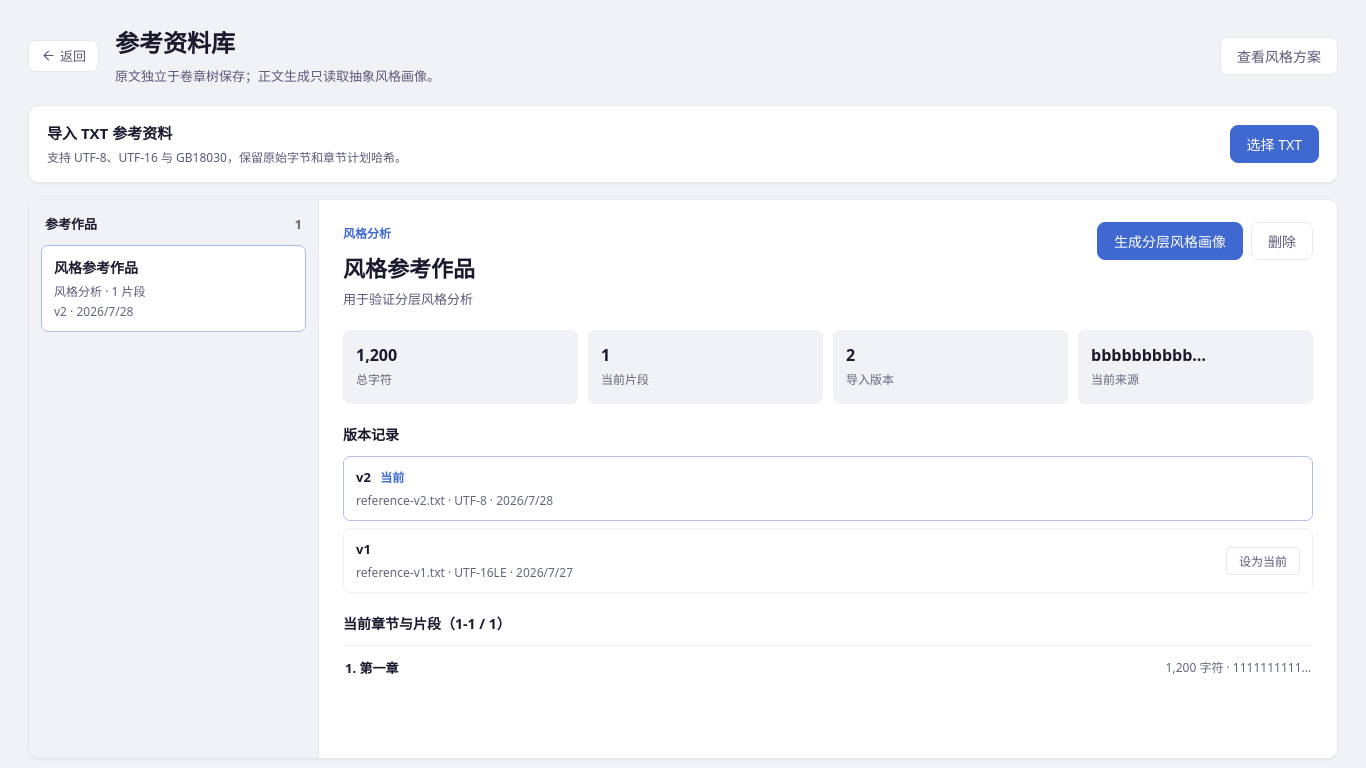
Scenario: ReferenceLibraryPage › uses revision-checked version activation and saves abstract style analysis
This screenshot has width=1366, height=768.
Check: the text "reference-v1.txt" is shown, box [356,564,445,581]
Click the button "设为当前" at (1263, 561), box [1226,547,1300,575]
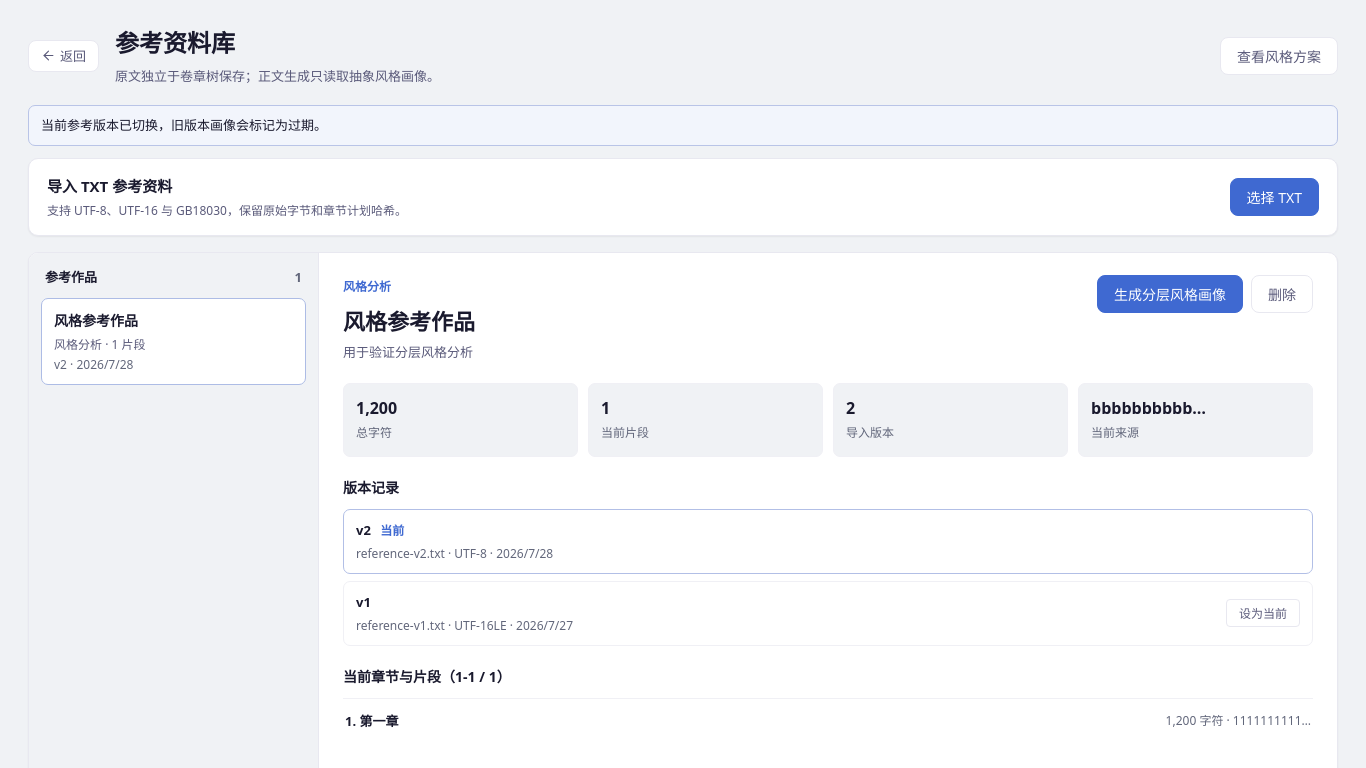
Click the button "生成分层风格画像" at (1170, 294), box [1097,275,1243,313]
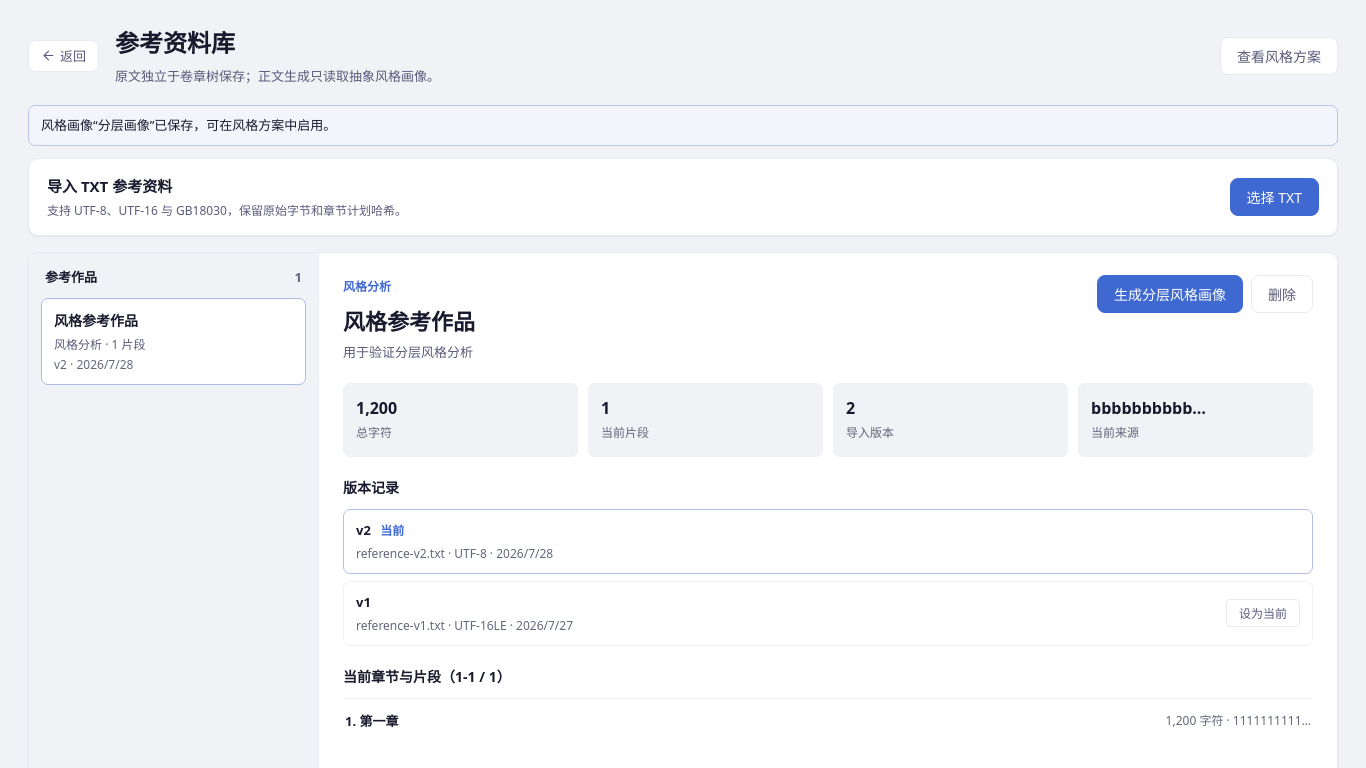
Check: the text "风格画像“分层画像”已保存，可在风格方案中启用。" is shown, box [28,105,1338,146]
